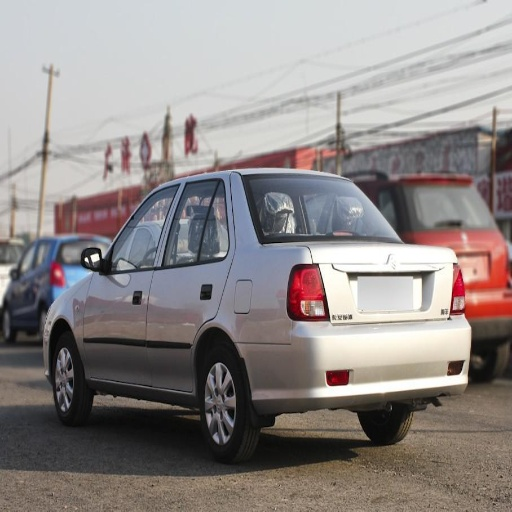back_bumper: (243, 314, 471, 413)
back_glass: (243, 177, 399, 243)
back_left_door: (147, 177, 233, 388)
